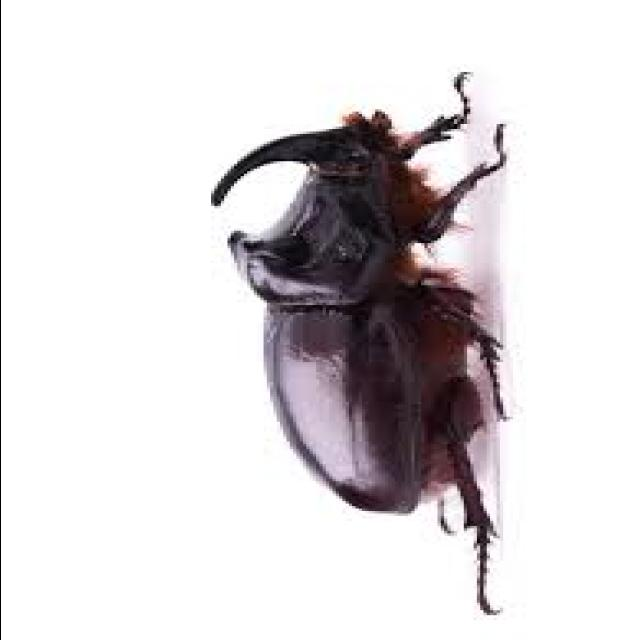Rhino-beetle: (199, 60, 478, 602)
